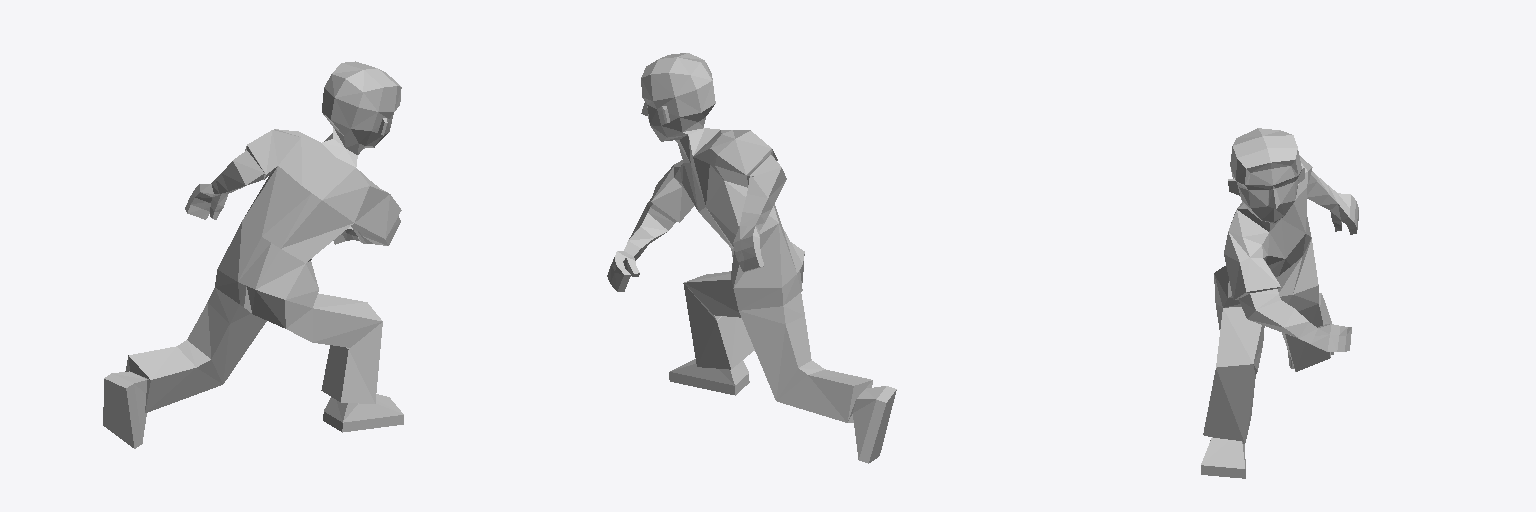
Rendered from zombie_male_attack_4.obj.
The picture shows the model from 3 angles: view 1: azimuth 30°, elevation 25°; view 2: azimuth 150°, elevation 25°; view 3: azimuth 270°, elevation 25°; orthographic projection.
Bounding box in the file's own units: 1.2 × 1.42 × 0.6075.